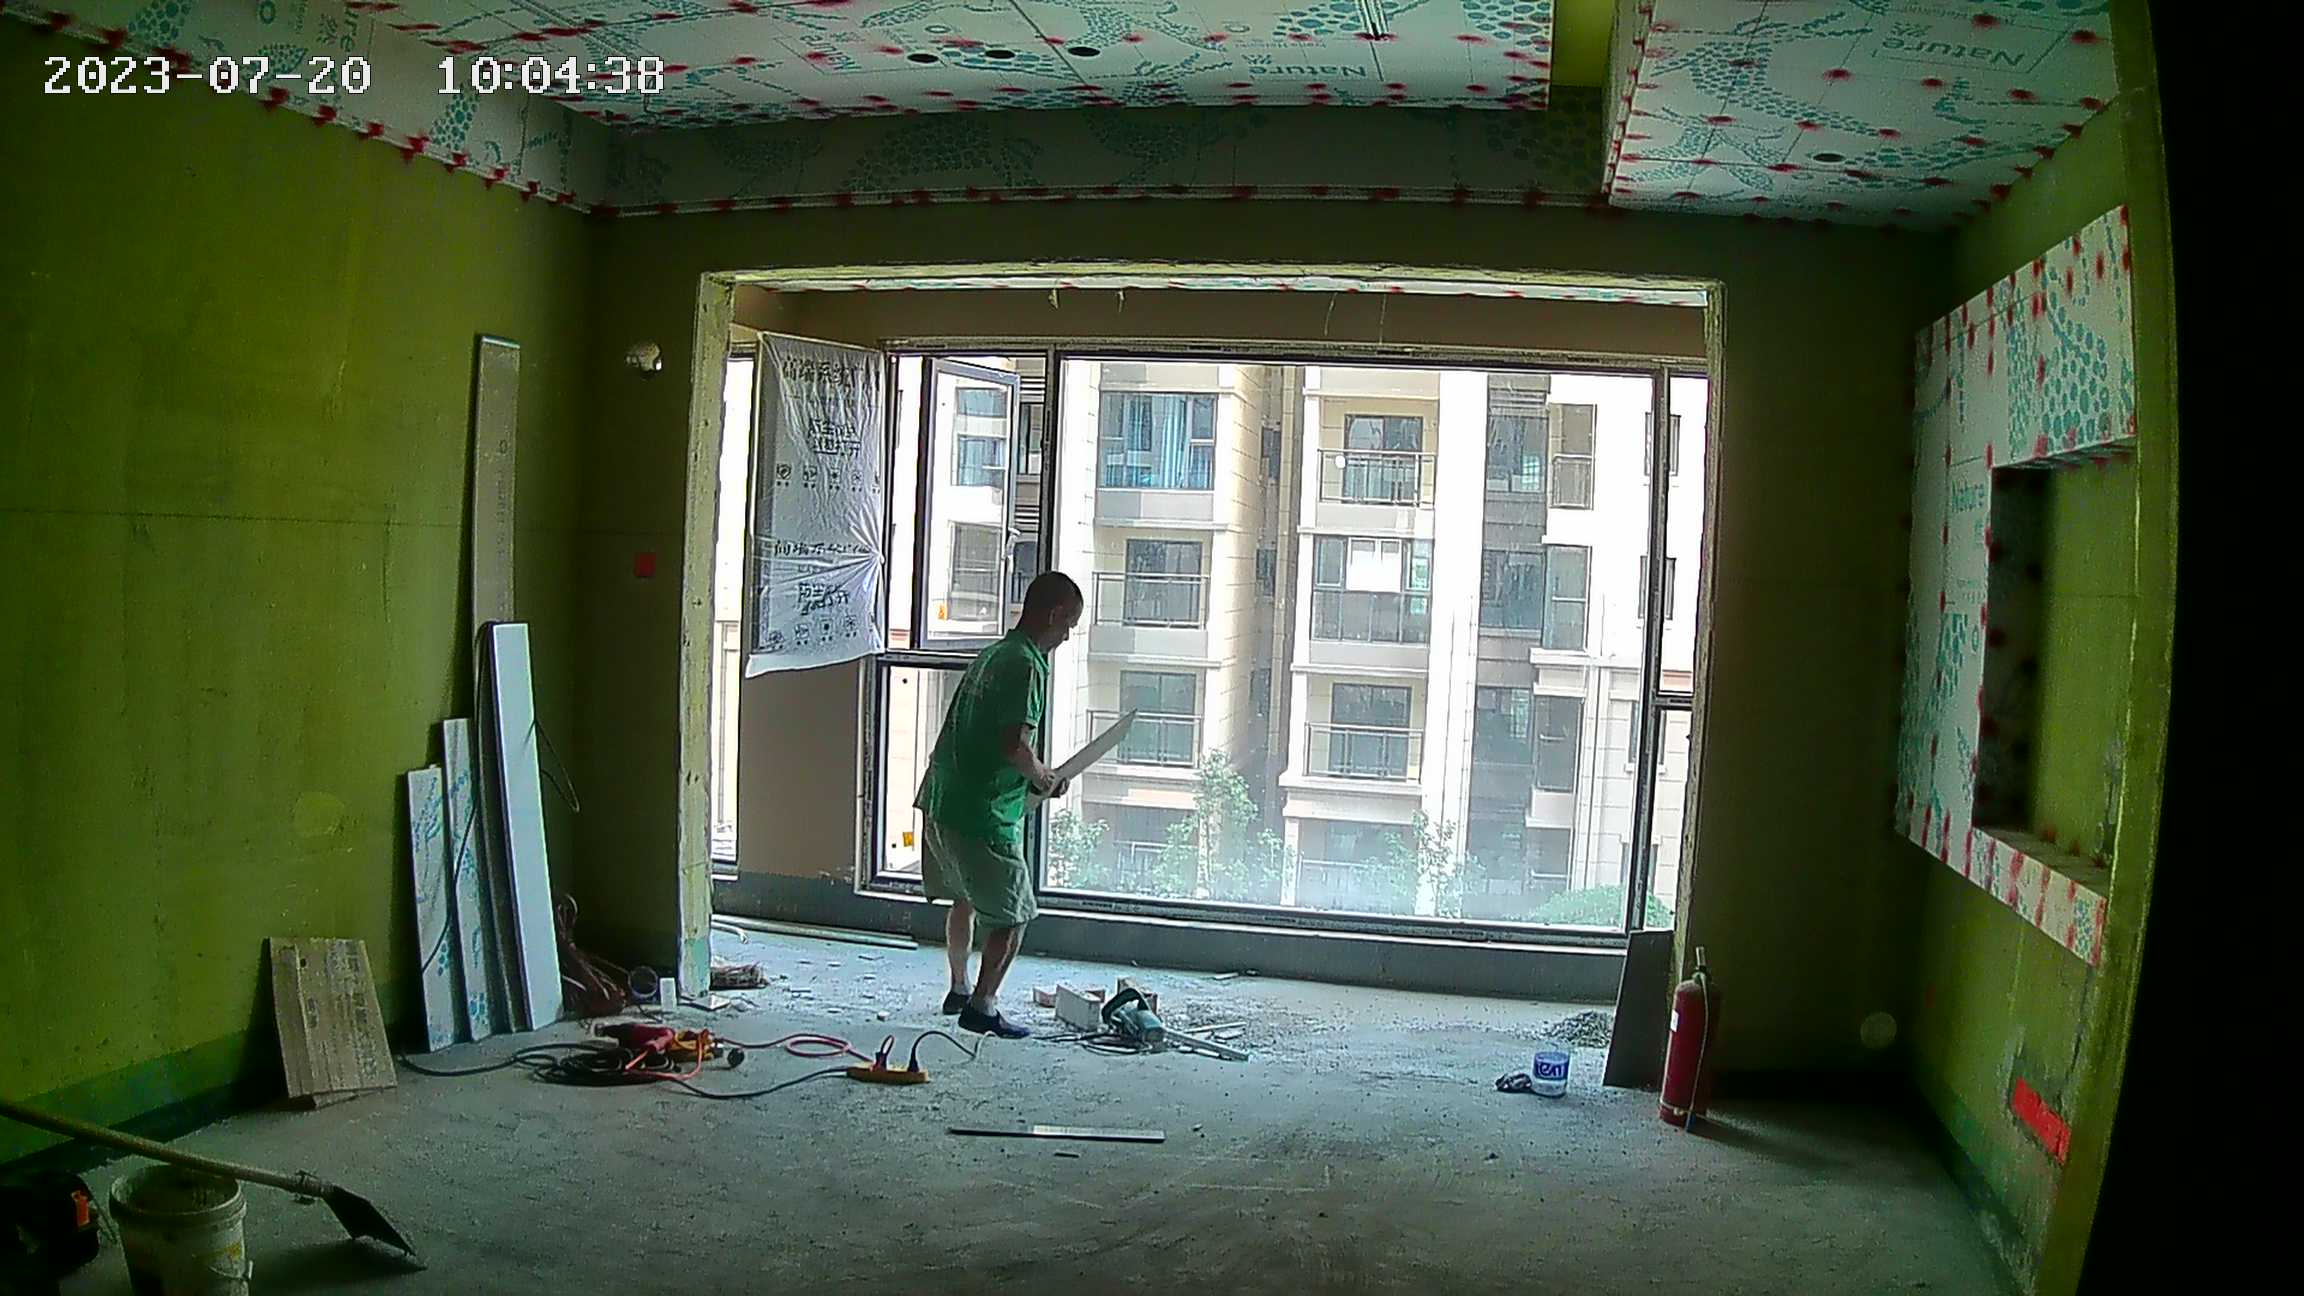people: (917, 568, 1084, 1040)
window: (872, 352, 1702, 937)
